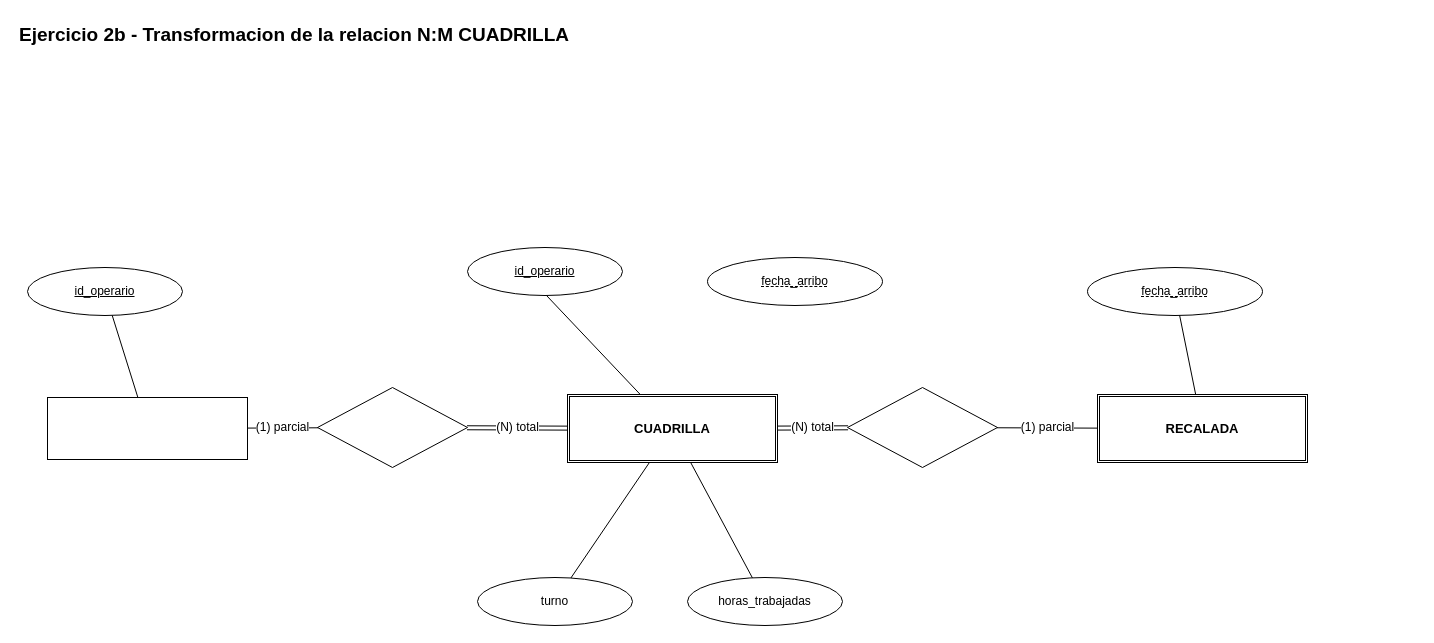
Image size: 1434x643. Some labels were removed from this diagram. Each missing label, with the centre of its shape:
OPERARIO: the point at 147,428
PARTICIPAR: the point at 392,427
PERTENECER: the point at 922,427
